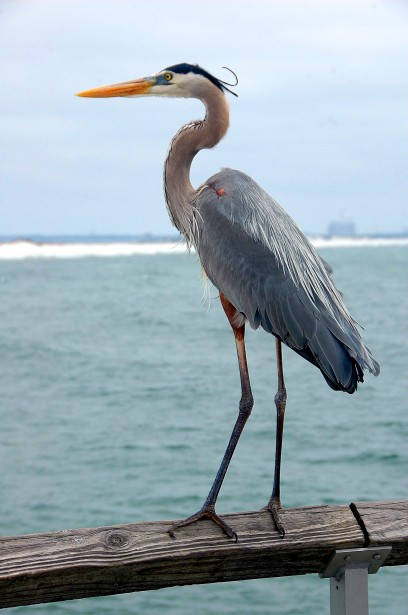heron: (73, 61, 381, 546)
